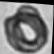correct: (0, 2, 51, 54)
